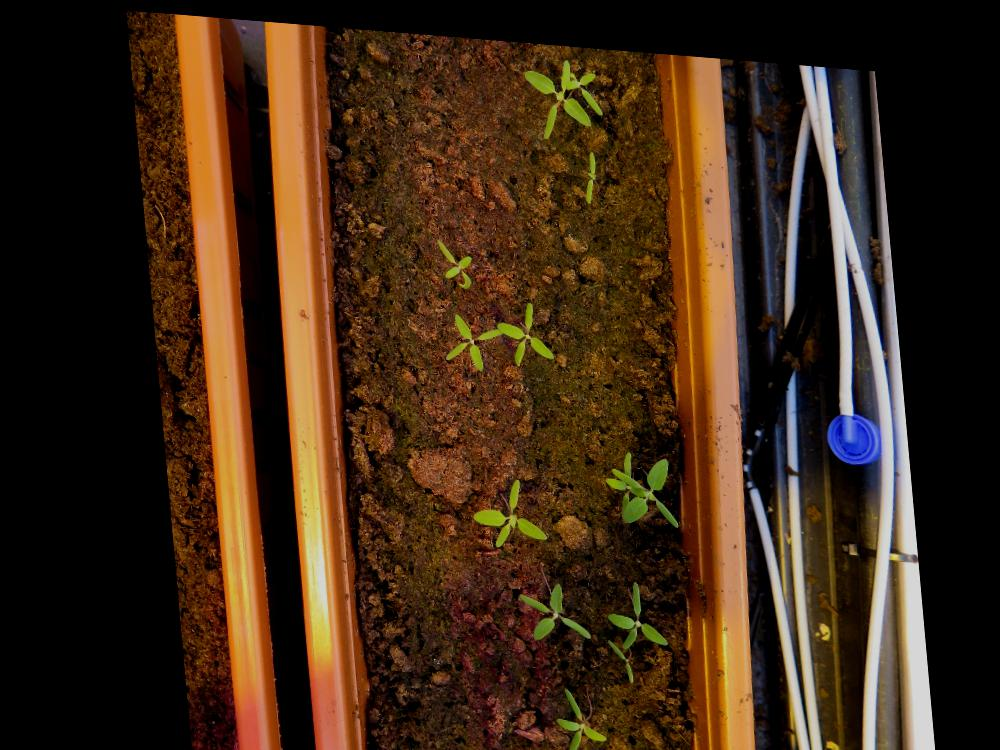weed: (460, 465, 542, 542), (506, 570, 582, 636), (541, 677, 598, 748), (431, 229, 471, 281), (577, 139, 597, 197)
